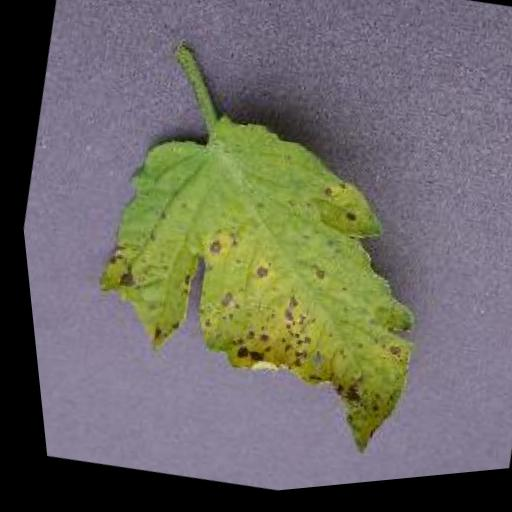Septoria: (38, 76, 458, 489)
